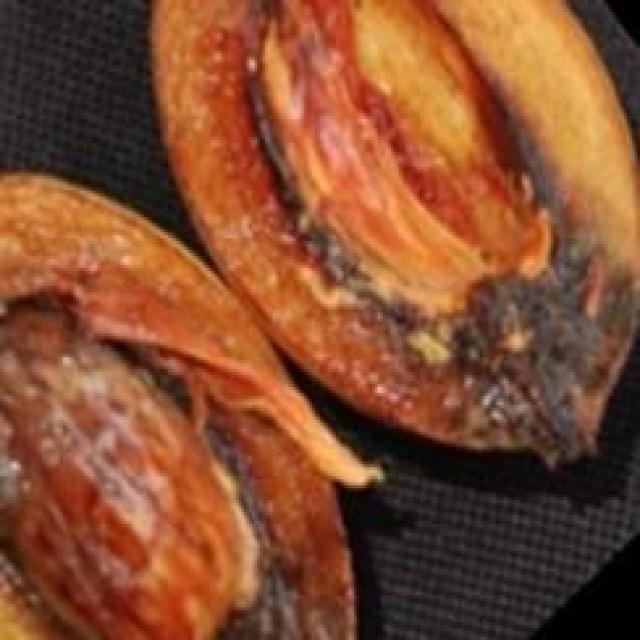damaged: (155, 0, 637, 461), (0, 173, 378, 637)
